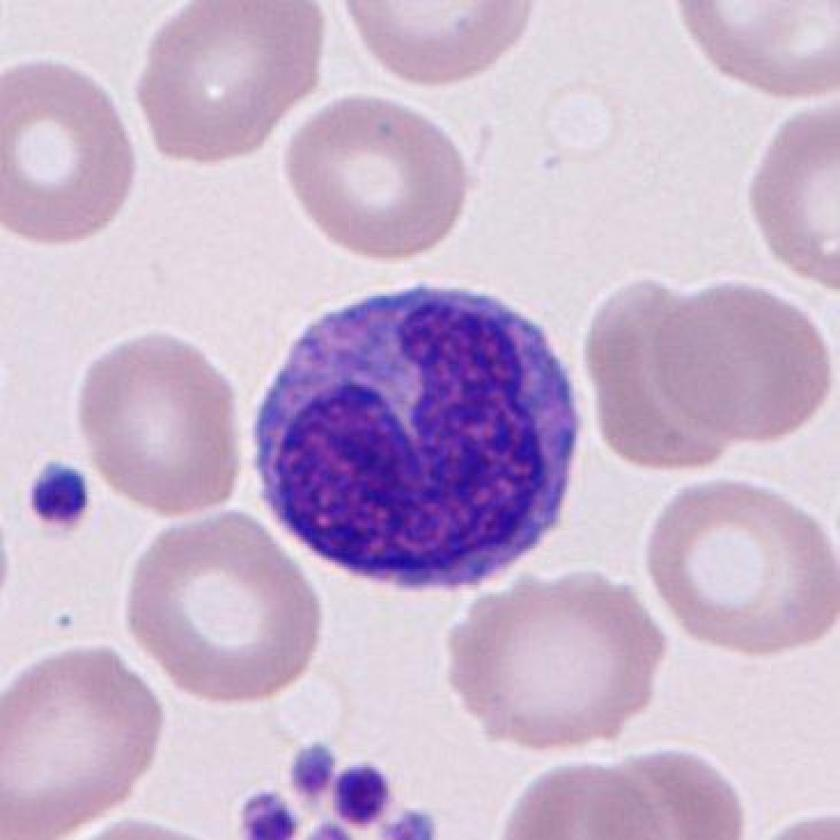monocyte: (233, 276, 609, 602)
